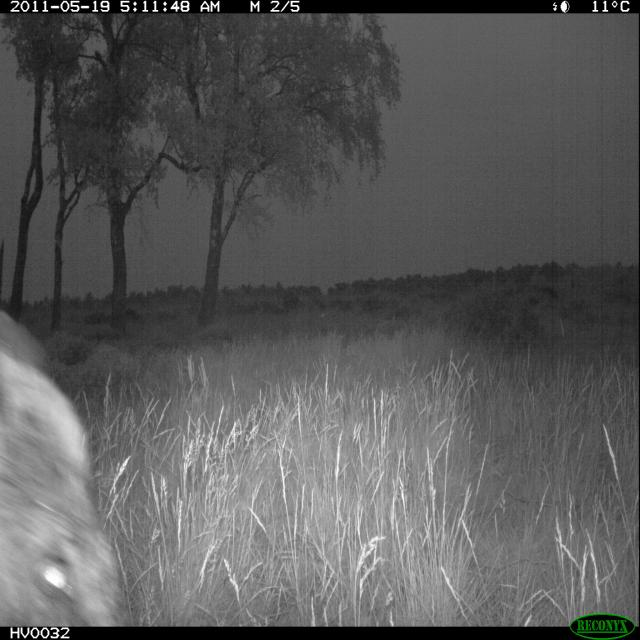boar: (0, 297, 160, 625)
